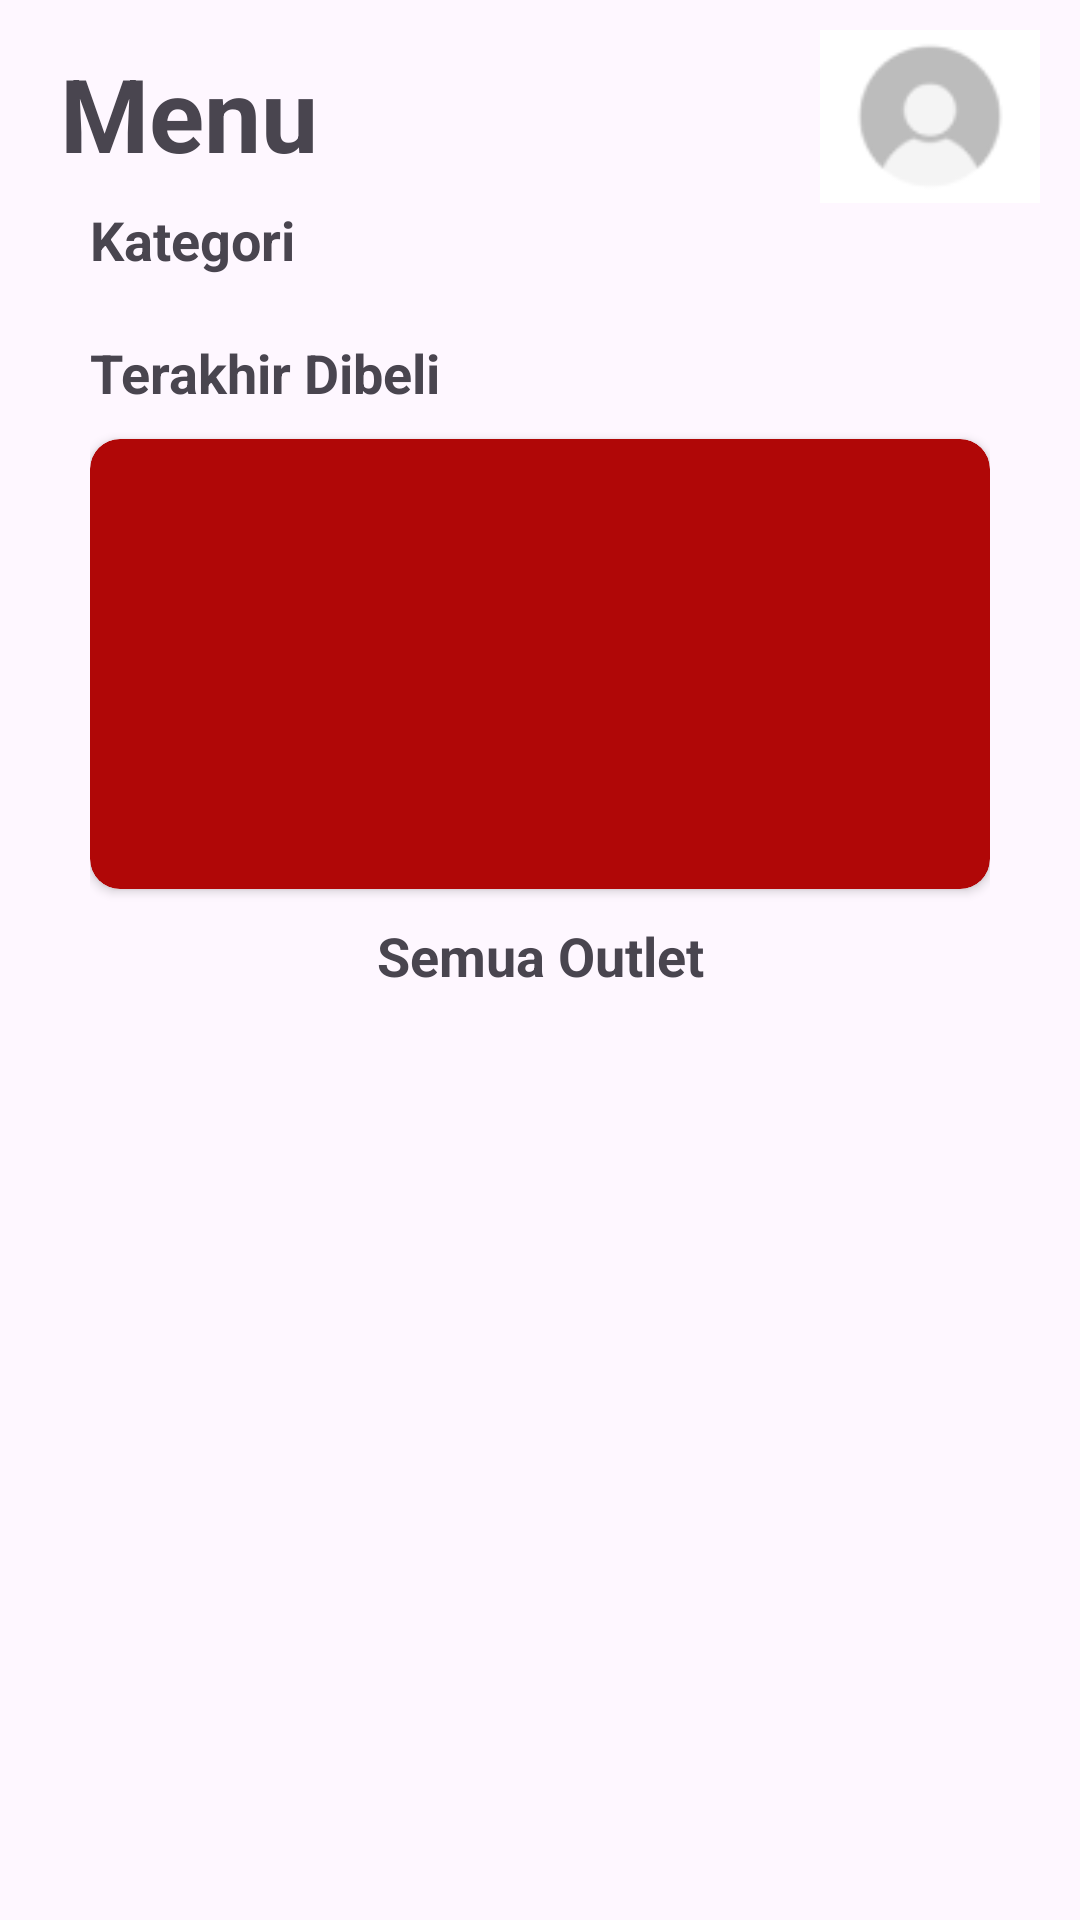

Icons on this 1080 x 1920 Android screen, each with its box as (x1, y1, x2, y2):
profil: (860, 46, 1000, 168)
